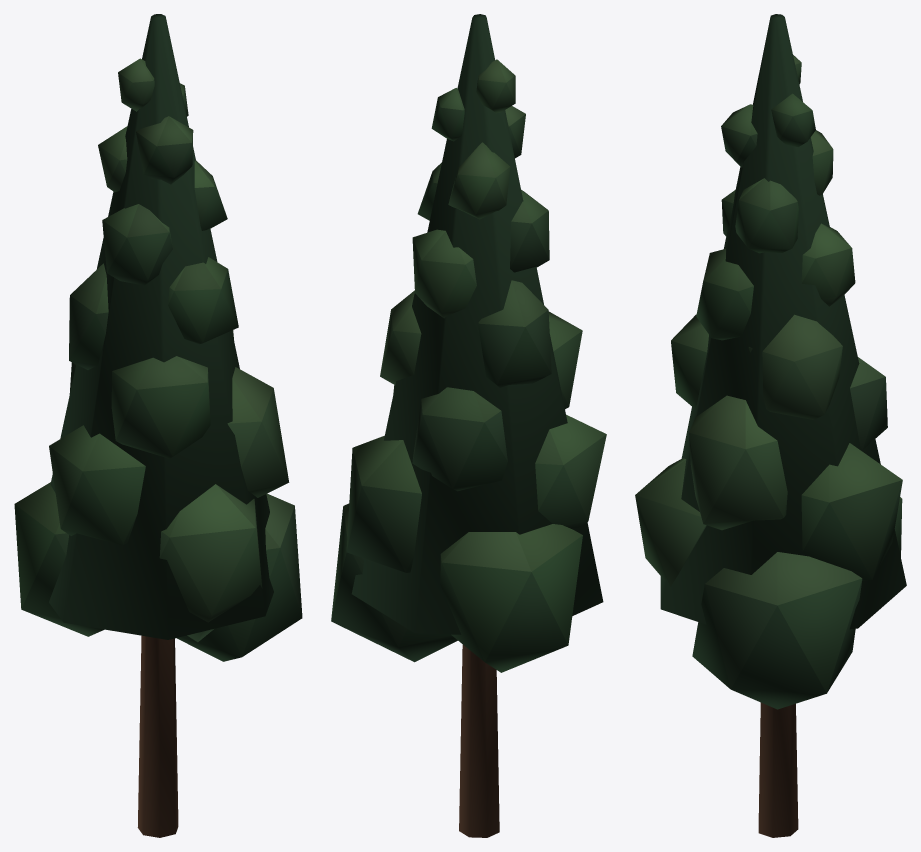
Rendered from env_sugi_b.glb.
3 views of the same model, side by side, from view 1: azimuth 30°, elevation 25°; view 2: azimuth 150°, elevation 25°; view 3: azimuth 270°, elevation 25° (orthographic).
Parts seen in each view (by area): view 1: env_sugi_b; view 2: env_sugi_b; view 3: env_sugi_b.
Part boxes in pixels (x1=…): env_sugi_b: x1=14, y1=14, x2=302, y2=837; env_sugi_b: x1=331, y1=14, x2=606, y2=837; env_sugi_b: x1=635, y1=14, x2=906, y2=837.
Bounding box in the file's own units: 5.78 × 18 × 5.46.
